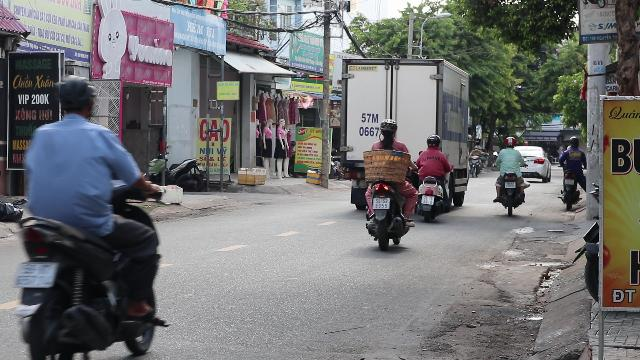helmet: (53, 74, 97, 118), (379, 118, 399, 136), (426, 134, 440, 148)
licenseplate: (14, 262, 56, 286), (373, 198, 389, 208), (421, 195, 435, 205)
motorcyclist: (8, 74, 168, 358), (360, 117, 416, 248), (414, 134, 452, 222)
